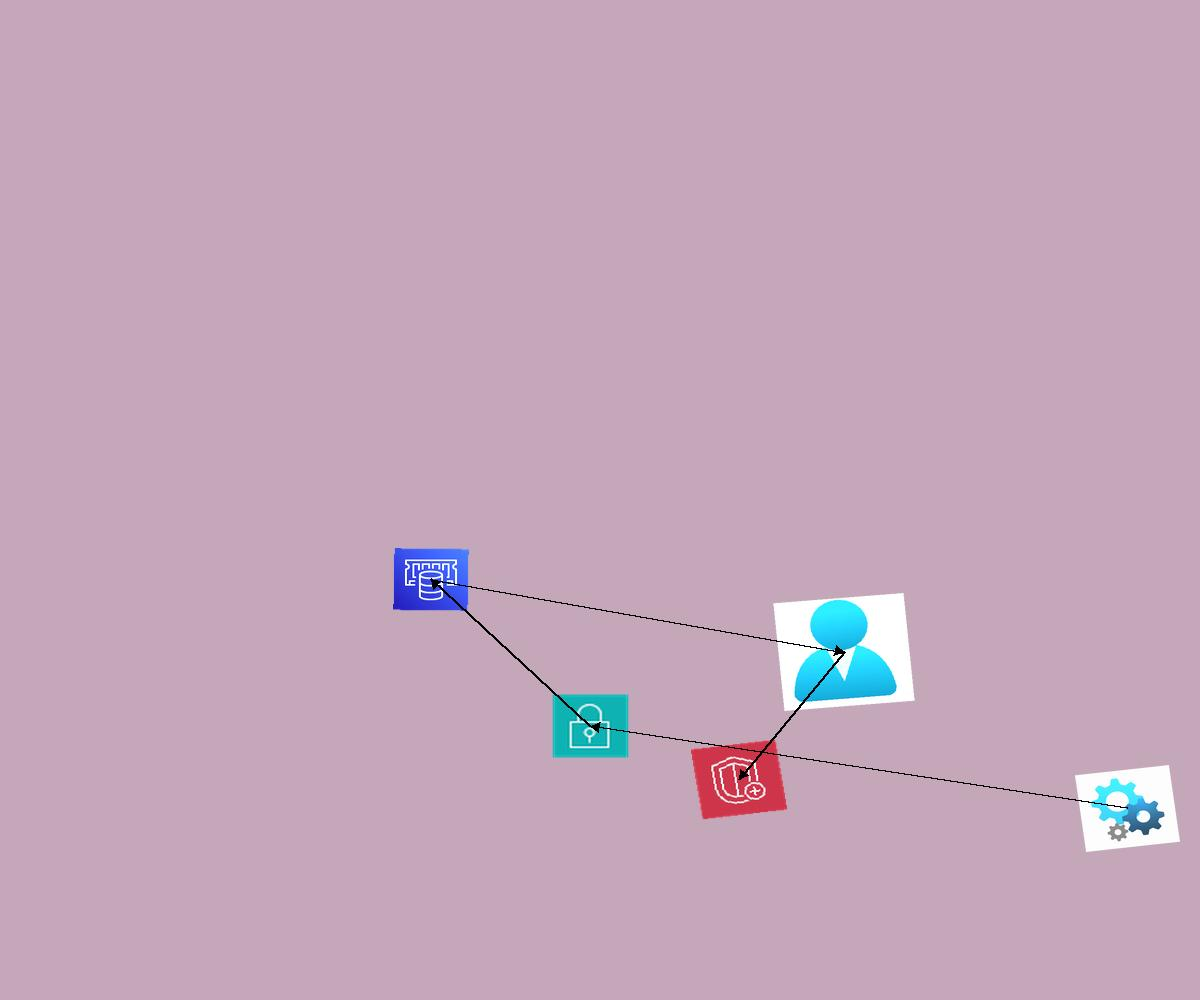AWS-ElastiCache: (393, 548, 469, 611)
AWS-Private-subnet: (551, 693, 630, 759)
AWS-Shield: (690, 739, 788, 820)
Azure_api: (1075, 765, 1180, 852)
Azure_users: (773, 593, 915, 711)
